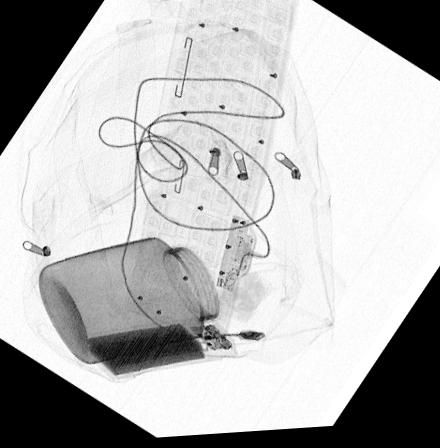Powerbank: (84, 316, 237, 379)
